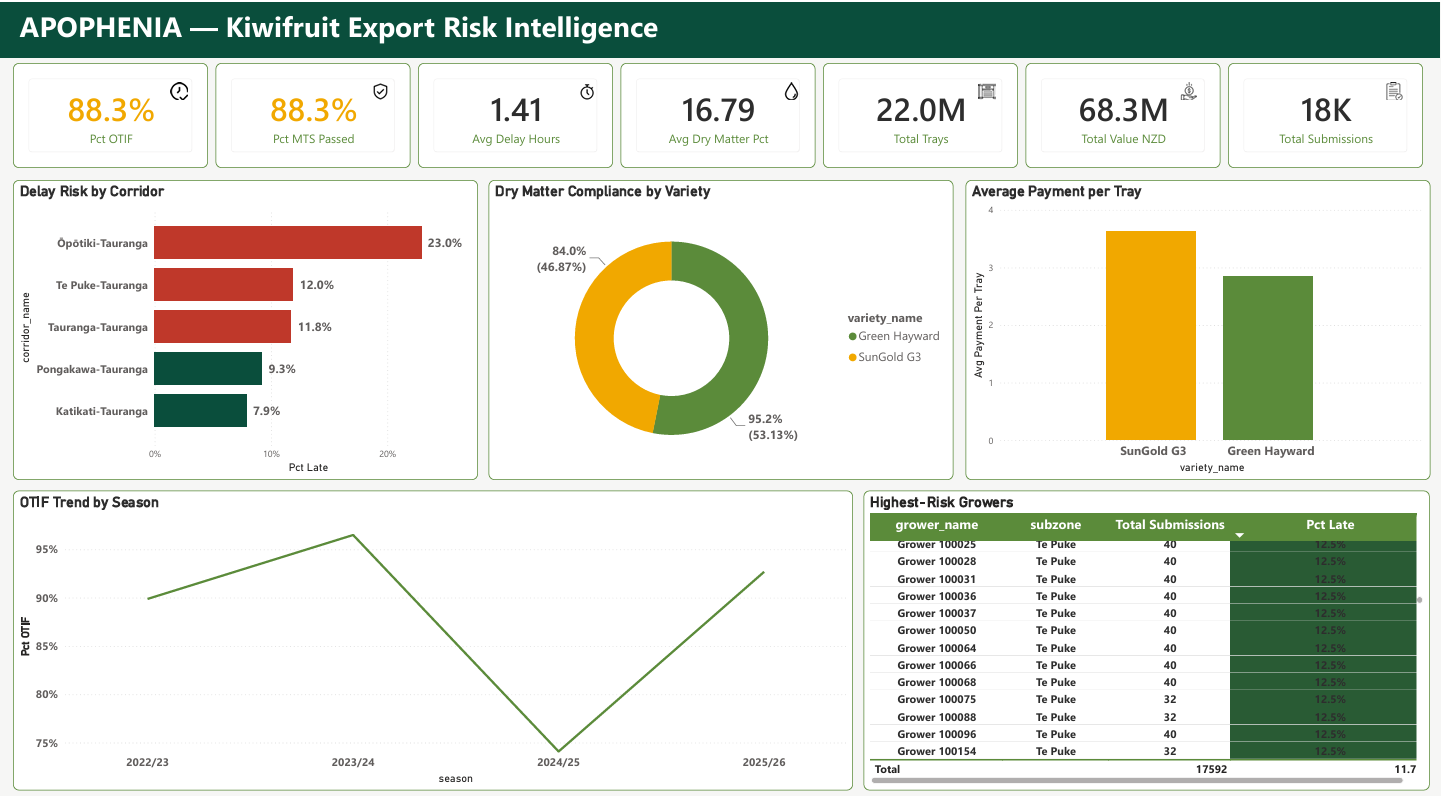

The dashboard page shown, as its layout file describes it:
{"tool":"powerbi","page":{"name":"Page 1","canvas":[1920,1080],"ordinal":0},"visuals":[{"type":"cardVisual","fields":{"Data":["fact_pallet_submissions.Pct OTIF"]},"box":[15,80,260,140],"z":0},{"type":"cardVisual","fields":{"Data":["fact_pallet_submissions.Total Submissions"]},"box":[1635,80,260,140],"z":1000},{"type":"cardVisual","fields":{"Data":["fact_pallet_submissions.Total Trays"]},"box":[1095,80,260,140],"z":2000},{"type":"cardVisual","fields":{"Data":["fact_pallet_submissions.Total Value NZD"]},"box":[1365,80,260,140],"z":3000},{"type":"cardVisual","fields":{"Data":["fact_pallet_submissions.Avg Dry Matter Pct"]},"box":[825,80,260,140],"z":4000},{"type":"cardVisual","fields":{"Data":["fact_pallet_submissions.Avg Delay Hours"]},"box":[555,80,260,140],"z":5000},{"type":"cardVisual","fields":{"Data":["fact_pallet_submissions.Pct MTS Passed"]},"box":[285,80,260,140],"z":6000},{"type":"clusteredBarChart","title":"Delay Risk by Corridor","fields":{"Category":["dim_corridor.corridor_name"],"Y":["fact_pallet_submissions.Pct Late"]},"box":[15,235,620,400],"z":7000},{"type":"donutChart","title":"Dry Matter Compliance by Variety","fields":{"Category":["dim_variety.variety_name"],"Y":["fact_pallet_submissions.Pct MTS Passed"]},"box":[650,235,620,400],"z":8000},{"type":"clusteredColumnChart","title":"\tAverage Payment per Tray","fields":{"Category":["dim_variety.variety_name"],"Y":["fact_pallet_submissions.Avg Payment Per Tray"]},"box":[1285,235,620,400],"z":9000},{"type":"lineChart","title":"\tOTIF Trend by Season","fields":{"Category":["dim_date.season","dim_date.month"],"Y":["fact_pallet_submissions.Pct OTIF"]},"box":[15,650,1120,400],"z":10000},{"type":"tableEx","title":"Highest-Risk Growers","fields":{"Values":["dim_grower.grower_name","dim_grower.subzone","fact_pallet_submissions.Total Submissions","fact_pallet_submissions.Pct Late"]},"box":[1150,650,755,400],"z":11000},{"type":"shape","box":[0,0,1920,74],"z":12000},{"type":"textbox","box":[20,8,900,40],"z":13000},{"type":"textbox","box":[20.9,50,898,24],"z":14000},{"type":"image","box":[225.6,105.6,24.4,24.4],"z":14001},{"type":"image","box":[493.3,105.6,24.4,24.4],"z":14002},{"type":"image","box":[770,105.6,23.3,24.4],"z":14003},{"type":"image","box":[1041.1,105.6,24.4,24.4],"z":14004},{"type":"image","box":[1304.4,105.6,24.4,24.4],"z":14005},{"type":"image","box":[1571.1,105.6,24.4,24.4],"z":14006},{"type":"image","box":[1846.7,105.6,24.4,24.4],"z":14007}]}

Visuals, with their boxes in screenshot pixels (x1, y1, x2, y2), scaled from the page's 1920x1080 canvas onto the 1441x796 screenshot:
cardVisual - fact_pallet_submissions.Pct OTIF: 11/59/206/162
cardVisual - fact_pallet_submissions.Total Submissions: 1227/59/1422/162
cardVisual - fact_pallet_submissions.Total Trays: 822/59/1017/162
cardVisual - fact_pallet_submissions.Total Value NZD: 1024/59/1220/162
cardVisual - fact_pallet_submissions.Avg Dry Matter Pct: 619/59/814/162
cardVisual - fact_pallet_submissions.Avg Delay Hours: 417/59/612/162
cardVisual - fact_pallet_submissions.Pct MTS Passed: 214/59/409/162
"Delay Risk by Corridor" clusteredBarChart: 11/173/477/468
"Dry Matter Compliance by Variety" donutChart: 488/173/953/468
"	Average Payment per Tray" clusteredColumnChart: 964/173/1430/468
"	OTIF Trend by Season" lineChart: 11/479/852/774
"Highest-Risk Growers" tableEx: 863/479/1430/774
shape: 0/0/1440/55
textbox: 15/6/690/35
textbox: 16/37/690/55
image: 169/78/188/96
image: 370/78/389/96
image: 578/78/595/96
image: 781/78/800/96
image: 979/78/997/96
image: 1179/78/1197/96
image: 1386/78/1404/96
